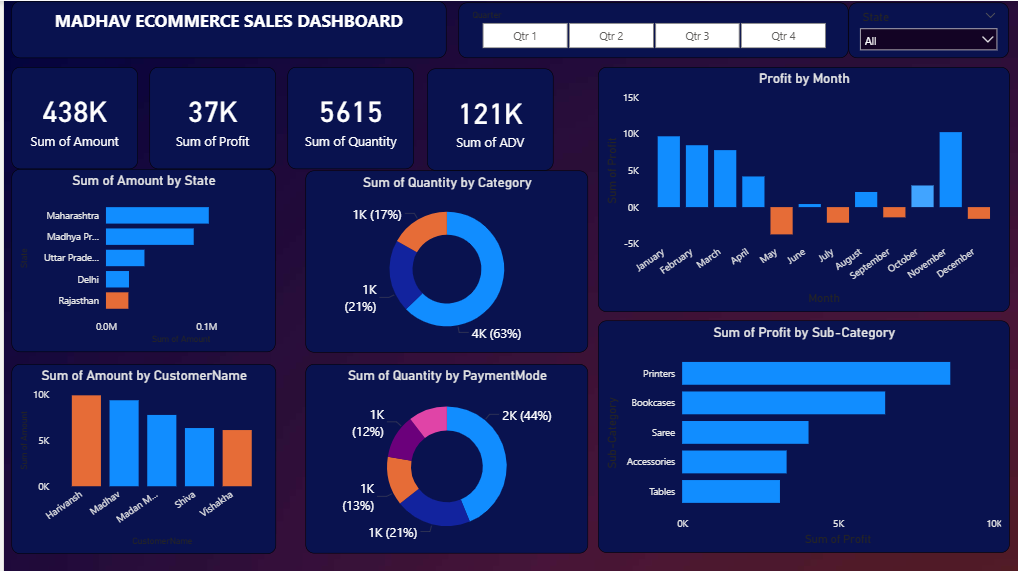

This screenshot's page, from the dashboard's own definition file:
{"tool":"powerbi","page":{"name":"Page 1","canvas":[1280,720],"ordinal":0},"visuals":[{"type":"textbox","box":[9.4,0,548,71.8],"z":0},{"type":"columnChart","title":"Profit by Month","fields":{"Category":["Orders.Order Date.Variation.Date Hierarchy.Month"],"Y":["Details.Profit"]},"box":[747.6,82.7,518.5,308.6],"z":1},{"type":"barChart","fields":{"Y":["Details.Profit"],"Category":["Details.Sub-Category"]},"box":[747.6,402.4,518.5,292.7],"z":2},{"type":"donutChart","fields":{"Category":["Details.Category"],"Y":["Details.Quantity"]},"box":[380.2,213.1,356.3,229],"z":3},{"type":"donutChart","fields":{"Y":["Details.Quantity"],"Category":["Details.PaymentMode"]},"box":[380.2,456.5,356.3,238.6],"z":4},{"type":"card","fields":{"Values":["Details.Amount"]},"box":[9.5,82.7,159.1,128.8],"z":5},{"type":"card","fields":{"Values":["Details.Profit"]},"box":[182.9,82.7,159.1,128.8],"z":6},{"type":"card","fields":{"Values":["Details.Quantity"]},"box":[357.9,82.7,159.1,128.8],"z":7},{"type":"card","fields":{"Values":["Details.ADV"]},"box":[532.9,84.3,159.1,128.8],"z":8},{"type":"barChart","fields":{"Category":["Orders.State"],"Y":["Details.Amount"]},"box":[9.4,211.7,332.6,230.6],"z":9},{"type":"columnChart","fields":{"Category":["Orders.CustomerName"],"Y":["Details.Amount"]},"box":[9,457,333,239],"z":10},{"type":"slicer","fields":{"Values":["Orders.Order Date.Variation.Date Hierarchy.Quarter"]},"box":[572.6,1.9,491.3,69.9],"z":11},{"type":"slicer","fields":{"Values":["Orders.State"]},"box":[1063.9,1.9,202.2,69.9],"z":12}]}

Visuals, with their boxes in screenshot pixels (x1, y1, x2, y2), scaled from the page's 1280x720 canvas onto the 1018x571 screenshot:
textbox: box=[7, 0, 443, 57]
"Profit by Month" columnChart: box=[595, 66, 1007, 310]
barChart - Details.Profit x Details.Sub-Category: box=[595, 319, 1007, 551]
donutChart - Details.Category x Details.Quantity: box=[302, 169, 586, 351]
donutChart - Details.Quantity x Details.PaymentMode: box=[302, 362, 586, 551]
card - Details.Amount: box=[8, 66, 134, 168]
card - Details.Profit: box=[145, 66, 272, 168]
card - Details.Quantity: box=[285, 66, 411, 168]
card - Details.ADV: box=[424, 67, 550, 169]
barChart - Orders.State x Details.Amount: box=[7, 168, 272, 351]
columnChart - Orders.CustomerName x Details.Amount: box=[7, 362, 272, 552]
slicer - Orders.Order Date.Variation.Date Hierarchy.Quarter: box=[455, 2, 846, 57]
slicer - Orders.State: box=[846, 2, 1007, 57]
